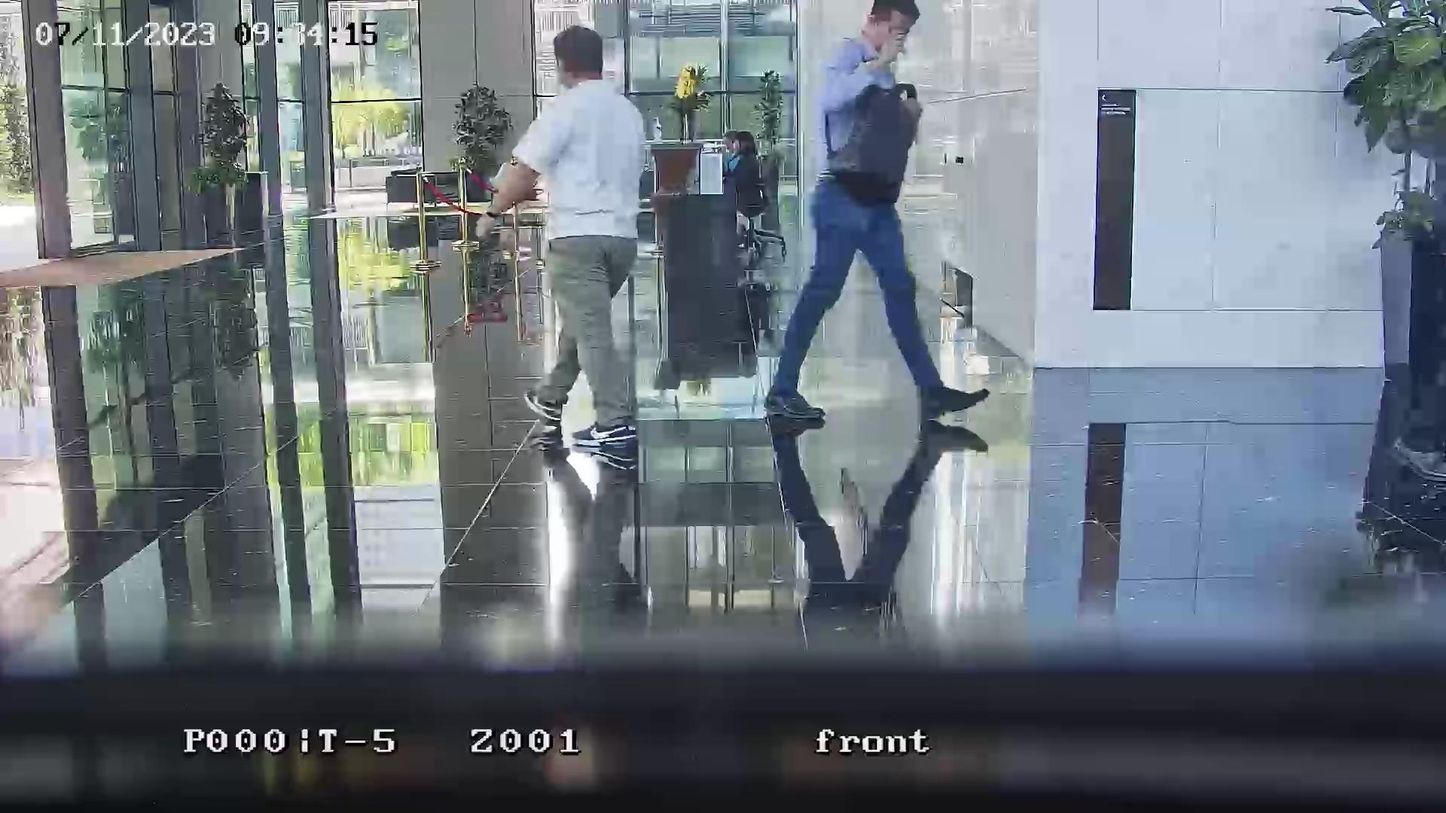person: (761, 0, 989, 432), (480, 23, 648, 473), (728, 132, 762, 205)
